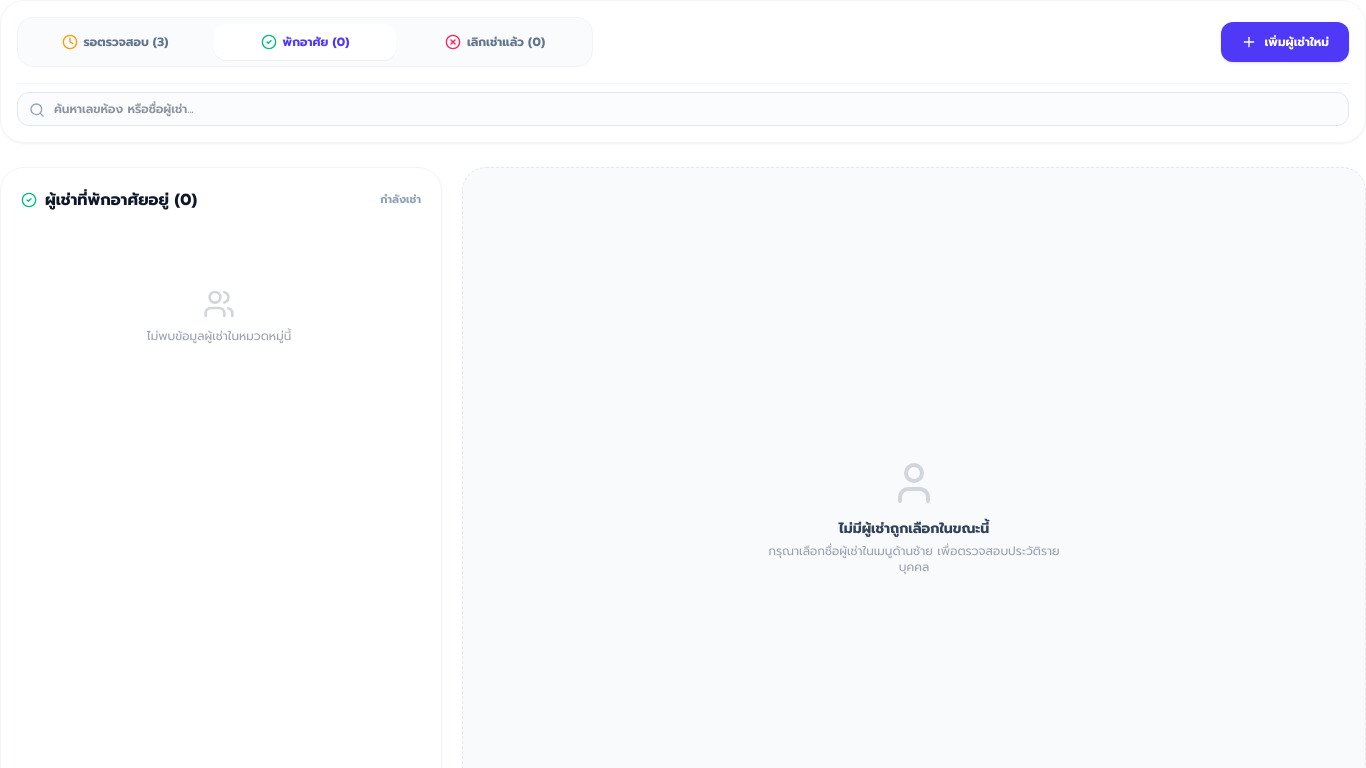
Test: Tenant Phase 3 Step 3C.5B: Thai-Only Labels, Contract Tab Rules & Approval Parity › 1. Owner-Facing Rental Labels — Thai Only (No English parentheticals) › 1.2 Renders concise Thai-only pending applicant duration summary
// Switch to Pending Review tab
Click the button "รอตรวจสอบ (3)": [115, 42] box [24,24,206,60]
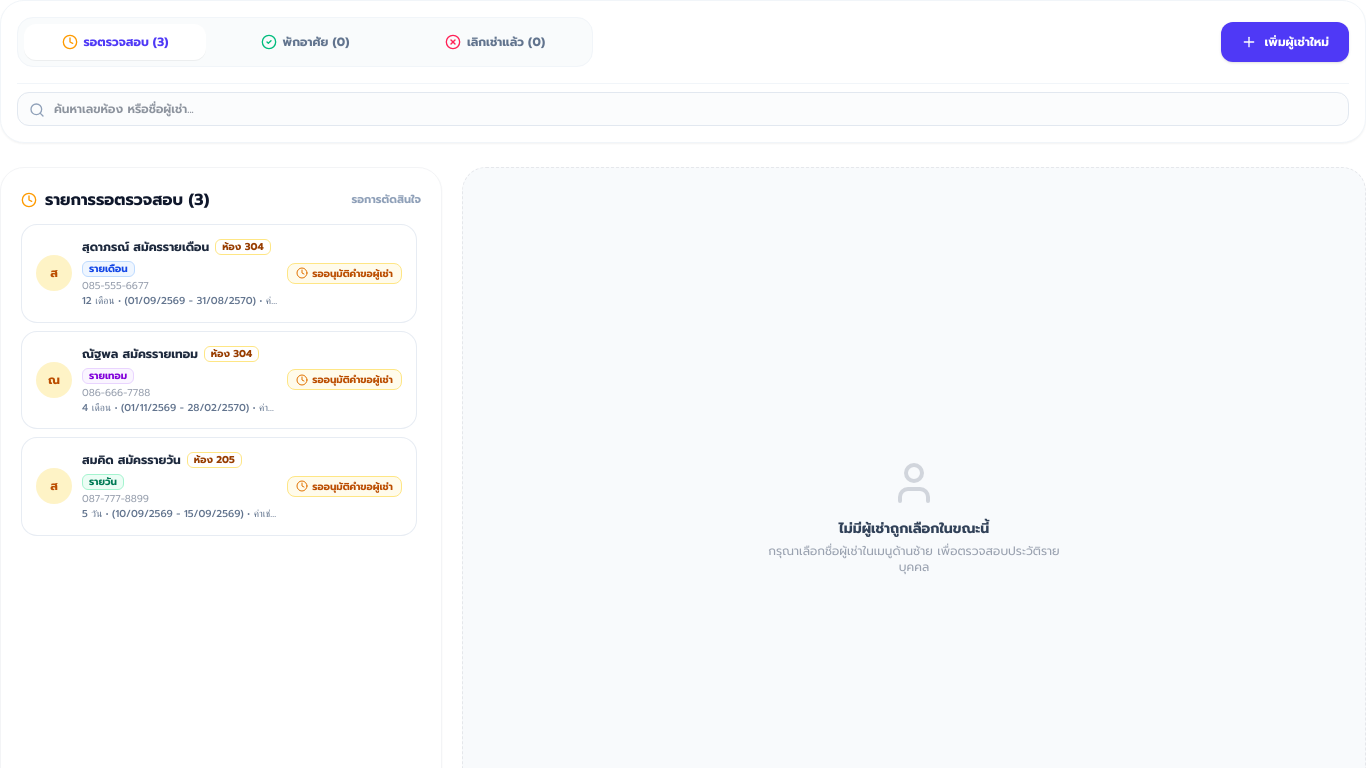
Now the text "12 เดือน • (01/09/2569 - 31/08/2570) • ค่าเช่า ฿ 5,000/เดือน" is shown, box [82,295,279,308]
Now the text "4 เดือน • (01/11/2569 - 28/02/2570) • ค่าเช่า ฿ 22,000/เทอม" is shown, box [82,402,279,414]
Now the text "5 วัน • (10/09/2569 - 15/09/2569) • ค่าเช่า ฿ 550/วัน" is shown, box [82,508,279,520]
